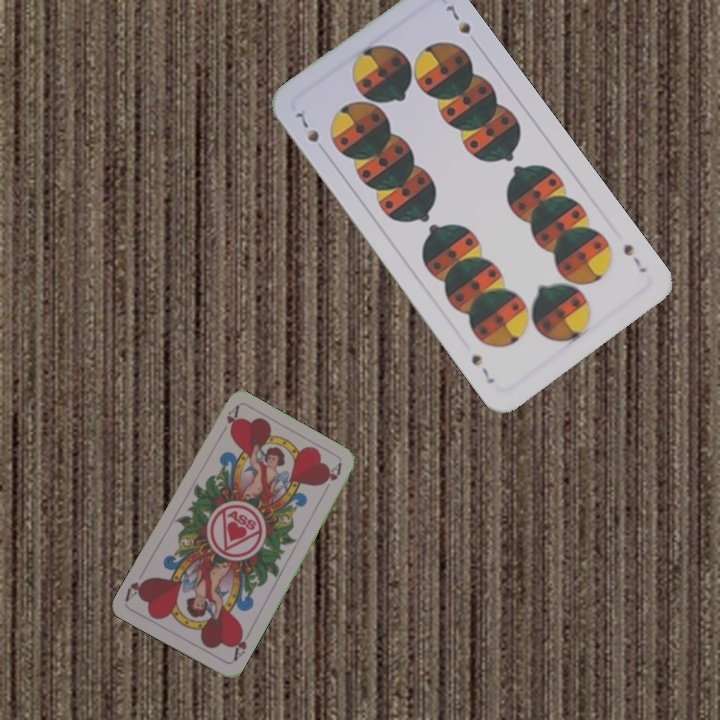HA: (215, 402, 242, 440), (229, 626, 254, 664)
S7: (292, 107, 322, 145), (619, 240, 650, 276)
